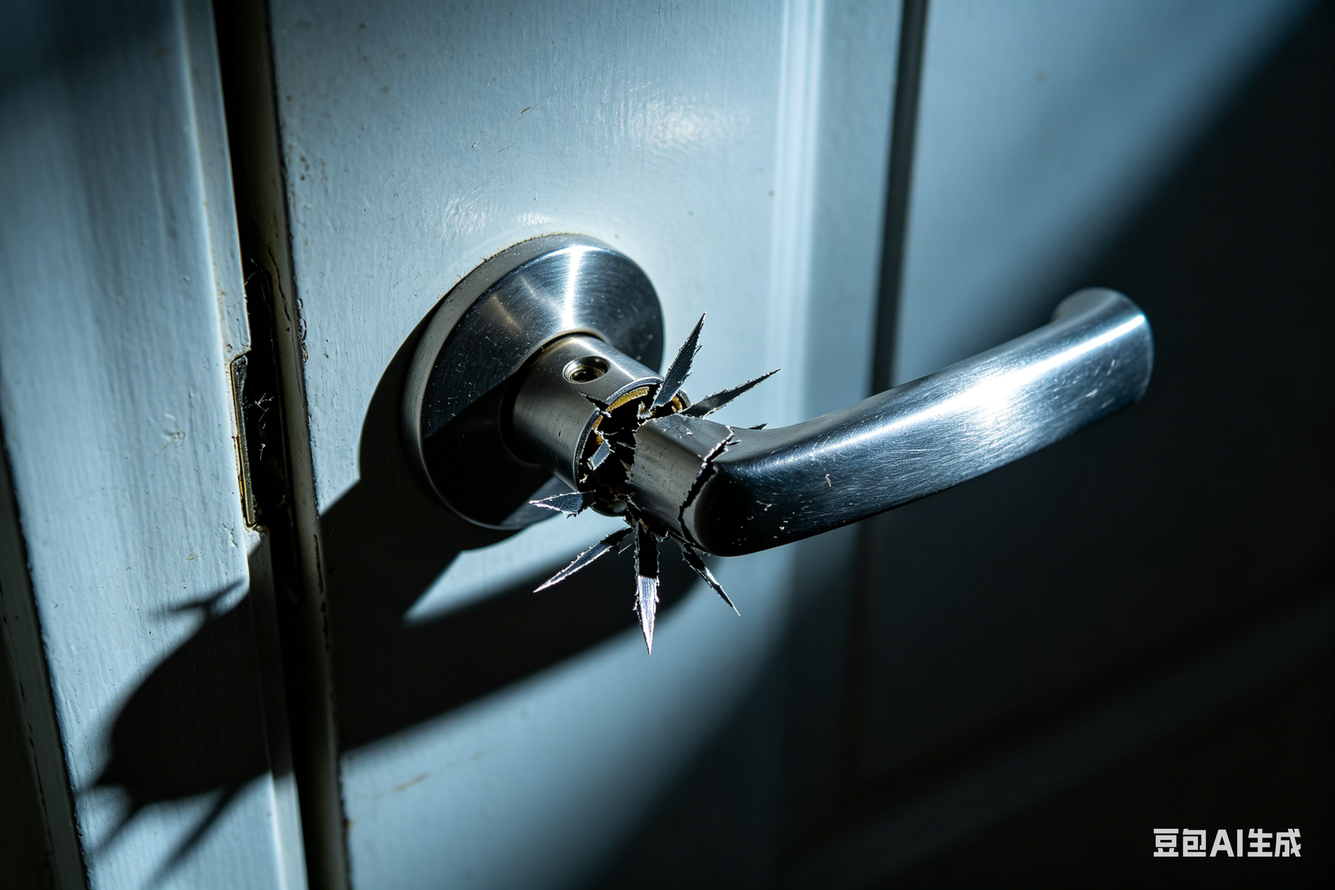BadLock: (553, 358, 745, 524)
